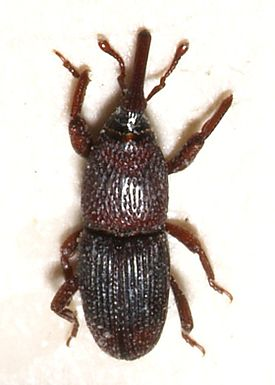dolgonosik: (51, 30, 239, 361)
